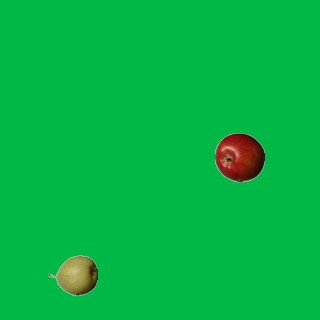Apple Braeburn: (214, 132, 264, 182)
Pear: (47, 250, 97, 300)
